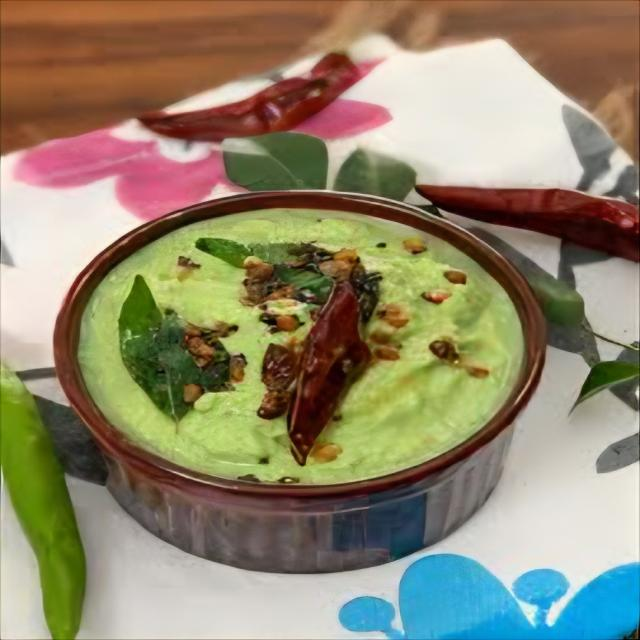GREEN CHUTNEY: (68, 191, 581, 490)
